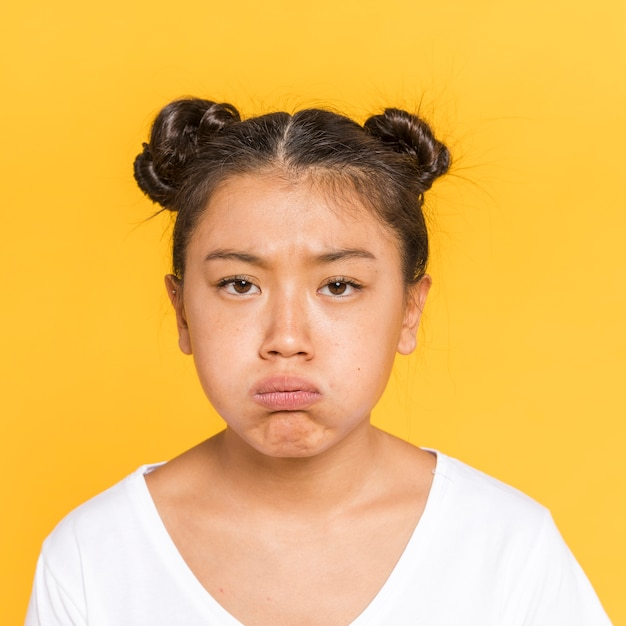teen: (136, 85, 471, 471)
